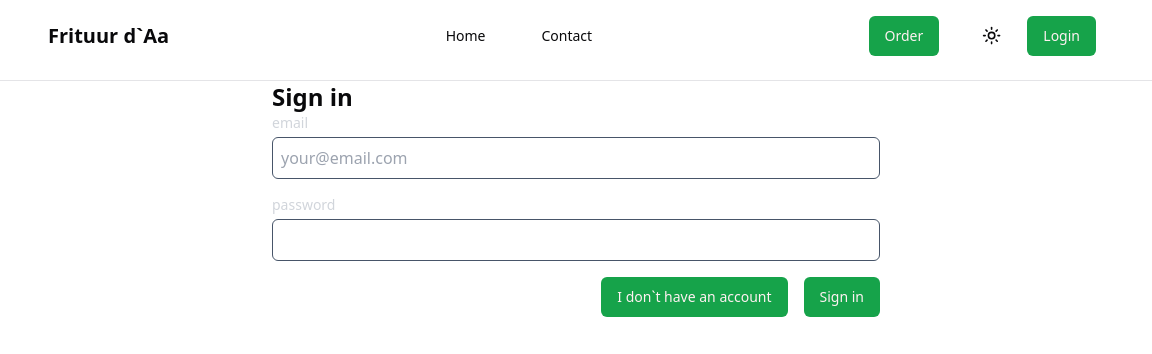
it: The Login Page › invalid password
Type "test@test.com" into the field with test id "email" at (576, 158), box [272,137,880,179]
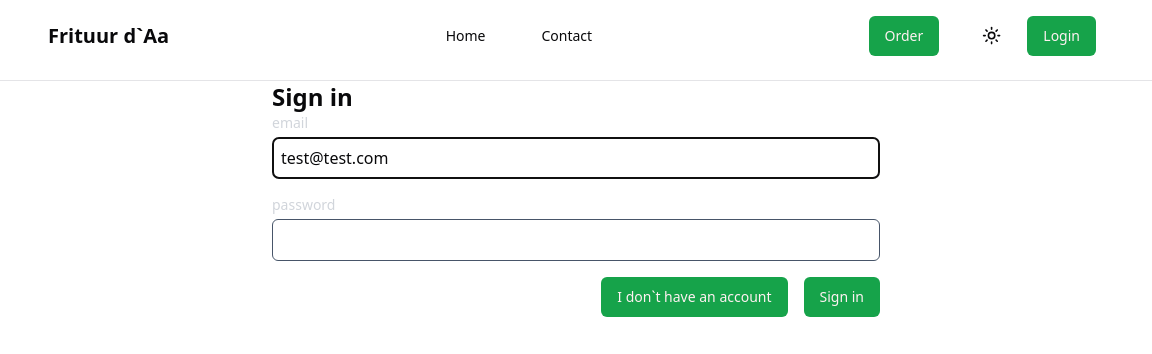
Type "pass" into the password field with test id "password" at (576, 240), box [272,219,880,261]
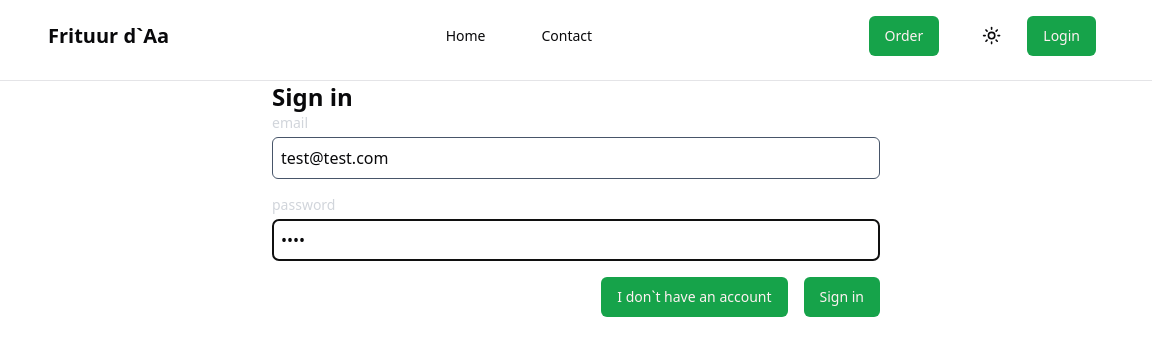
Click the button with test id "login" at (843, 297), box [804,277,881,317]
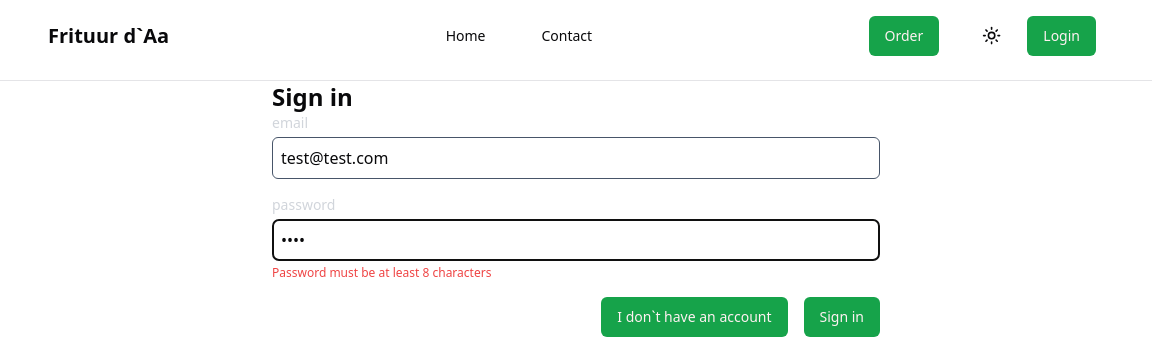
expect the element with test id "error" reads "Password must be at least 8 characters": met, box [272,264,491,281]
